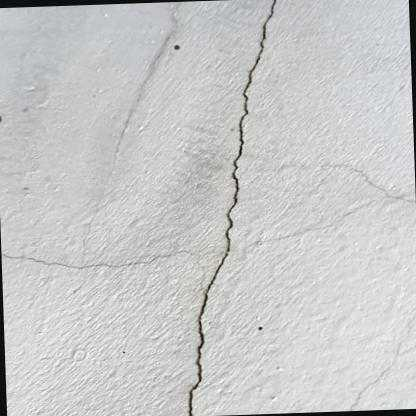crack: (187, 0, 277, 416)
